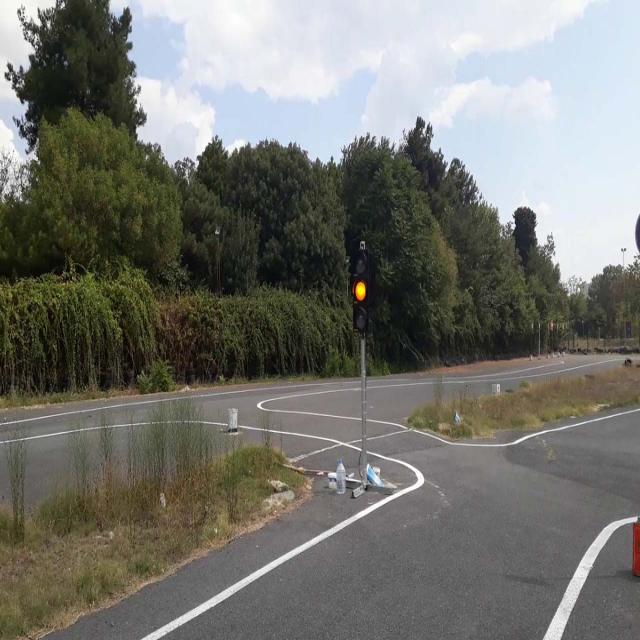sari: (351, 250, 369, 330)
